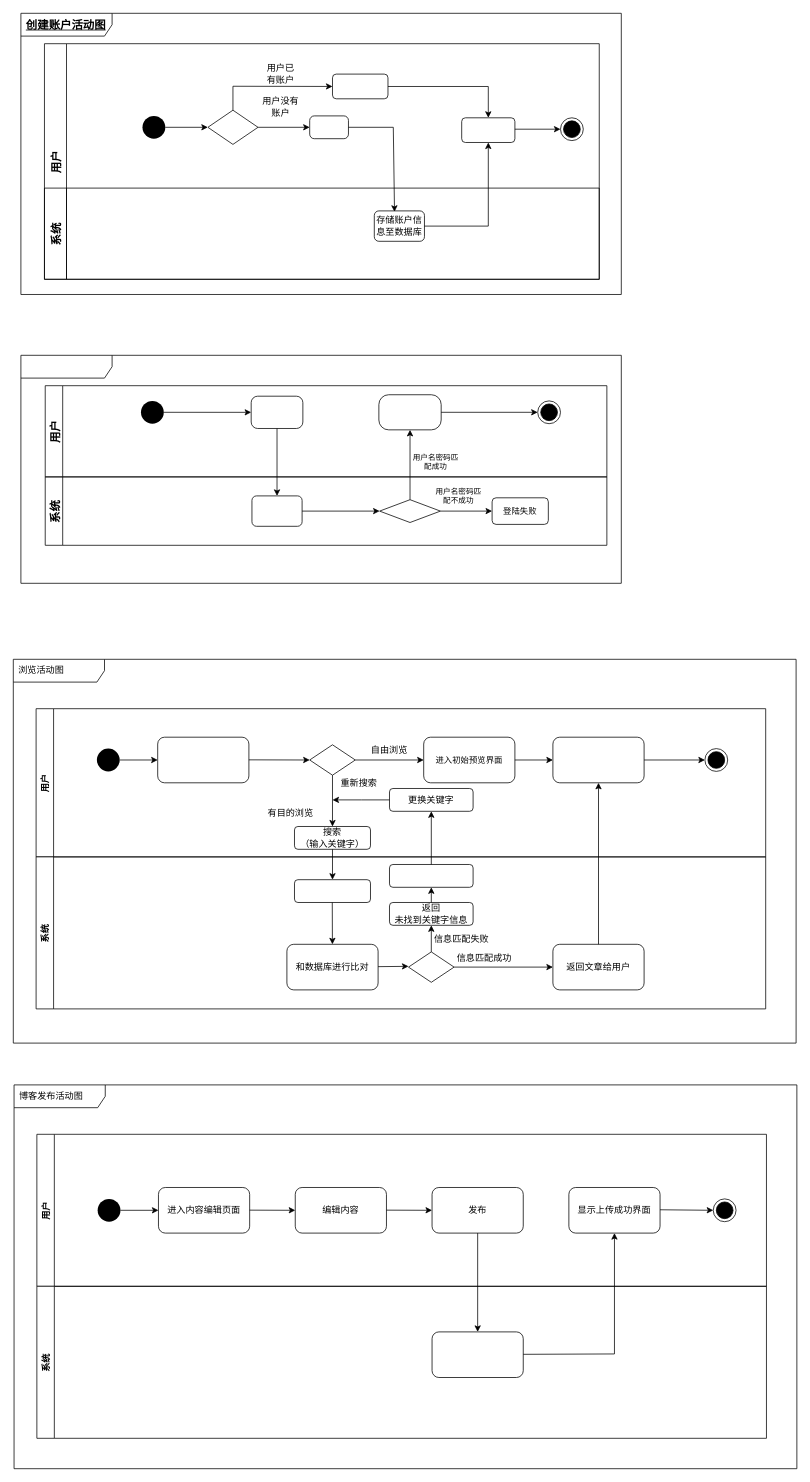
This 810x1482 diagram has some shape labels left out. The box of each missing label's shape, as (x1, y1, x2, y2) in pixels:
创建账户: (309, 115, 348, 139)
匹配用户名和密码: (251, 495, 302, 526)
博客内容 添加到数据库: (431, 1331, 523, 1378)
接收关键字: (294, 879, 370, 902)
提示用户 更换关键字: (389, 864, 473, 887)
浏览: (552, 736, 644, 783)
点击登 陆按钮: (332, 73, 388, 99)
登陆账户活动图: (20, 355, 621, 583)
输入账户信息: (250, 395, 303, 428)
进入博客 主页面: (378, 394, 441, 430)
进入博客页面: (157, 736, 249, 783)
进入登陆界面: (461, 117, 515, 142)
